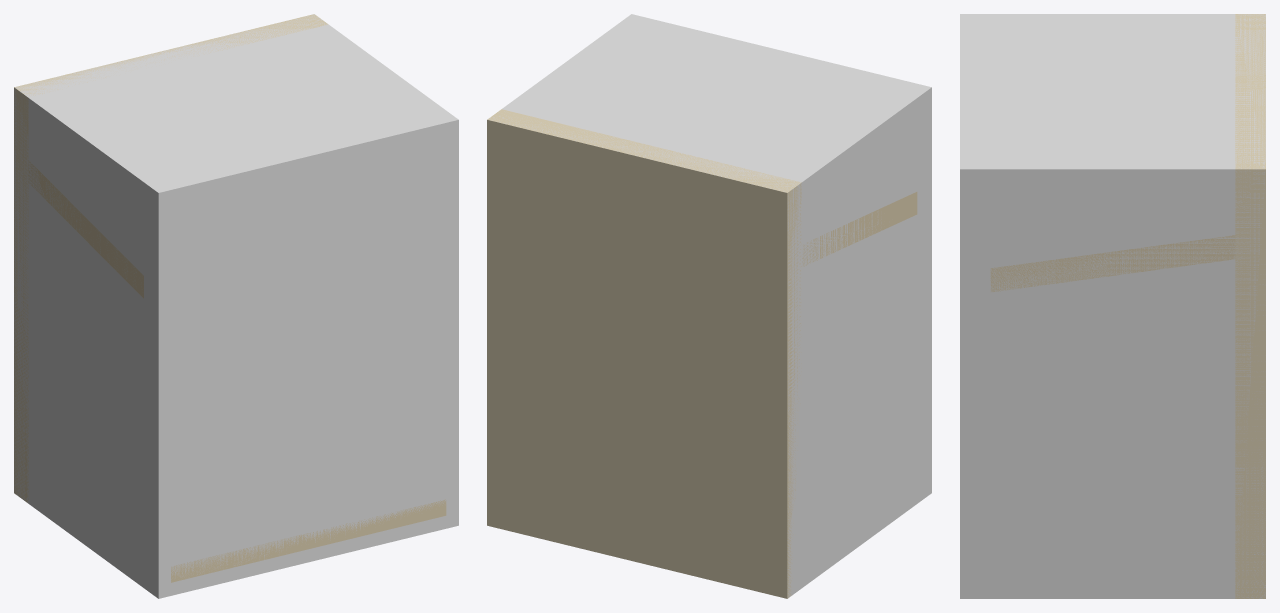
File: FMS_Dovecote.fbx
3 renders of one model, left to right at view 1: azimuth 30°, elevation 25°; view 2: azimuth 150°, elevation 25°; view 3: azimuth 270°, elevation 25°, orthographic. The views are drawn at different scales.
Visible parts, largest first — view 1: FMS_Dovecote_Col, FMS_Dovecote_LOD0; view 2: FMS_Dovecote_LOD0, FMS_Dovecote_Col; view 3: FMS_Dovecote_Col, FMS_Dovecote_LOD0.
Boxes of the visible parts, x1,y1,x2,y2 form: FMS_Dovecote_Col: (14, 14, 458, 598); FMS_Dovecote_LOD0: (14, 14, 446, 582); FMS_Dovecote_LOD0: (487, 109, 917, 598); FMS_Dovecote_Col: (490, 14, 931, 597); FMS_Dovecote_Col: (960, 14, 1265, 598); FMS_Dovecote_LOD0: (990, 14, 1265, 598).
Size of what is drawn, in the model's own units: 0.48 by 0.62 by 0.4.
Materials: 1 (1 with a texture image).
